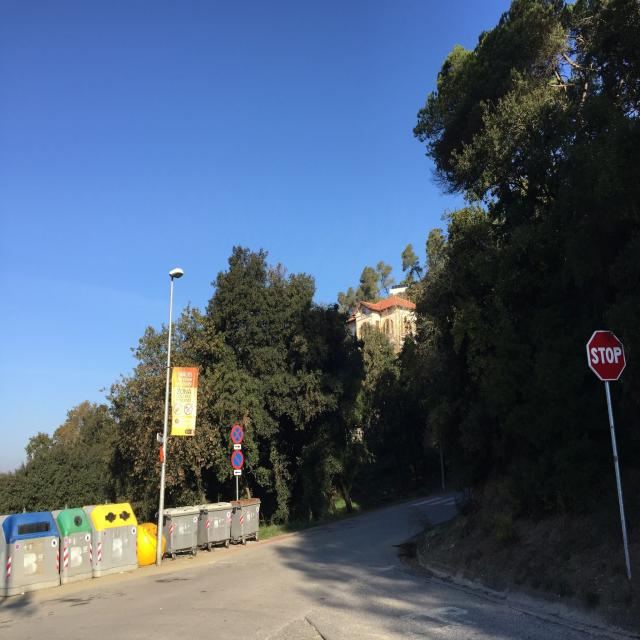forb_stopping: (231, 449, 243, 470)
forb_waiting: (231, 425, 243, 444)
